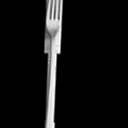fork: (39, 2, 68, 128)
